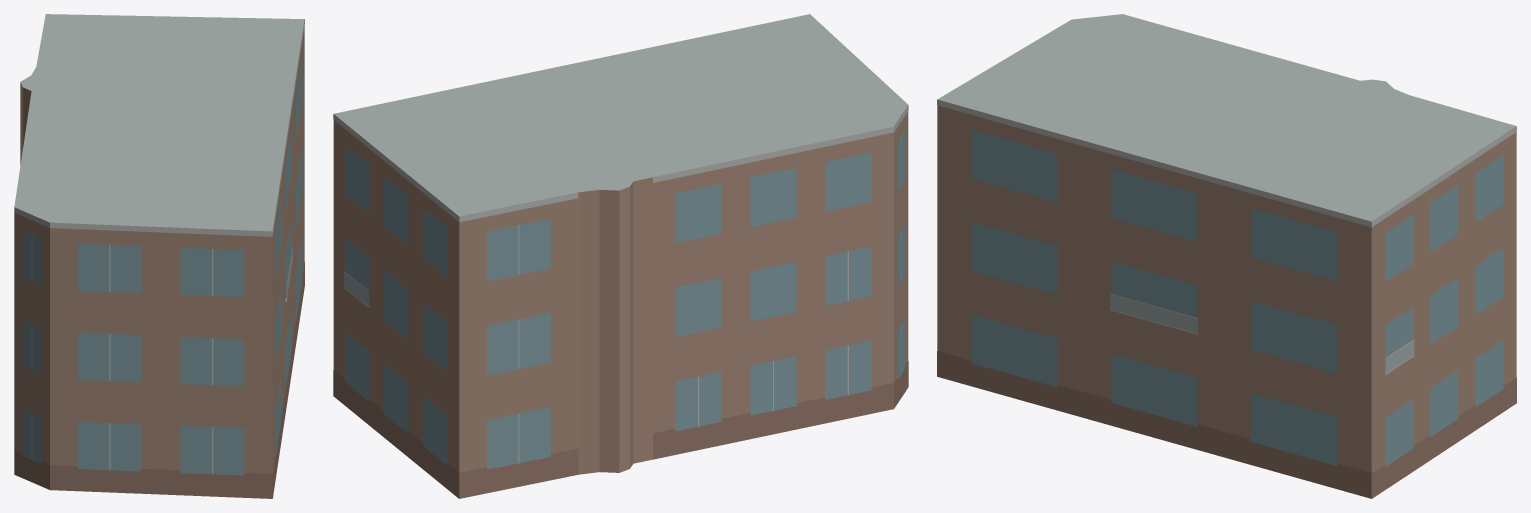
File: survey-upis-33038533.glb
The picture shows the model from 3 angles, left to right: view 1: azimuth 30°, elevation 25°; view 2: azimuth 150°, elevation 25°; view 3: azimuth 270°, elevation 25°; orthographic projection. The views are drawn at different scales.
Visible parts, largest first — view 1: survey-upis-33038533.tmp; view 2: survey-upis-33038533.tmp; view 3: survey-upis-33038533.tmp.
Boxes of the visible parts, bbox=[...] form: survey-upis-33038533.tmp: bbox=[14, 14, 304, 498]; survey-upis-33038533.tmp: bbox=[333, 14, 908, 498]; survey-upis-33038533.tmp: bbox=[937, 14, 1516, 498].
Bounding box in the file's own units: 19.13 × 11.9 × 22.56.
